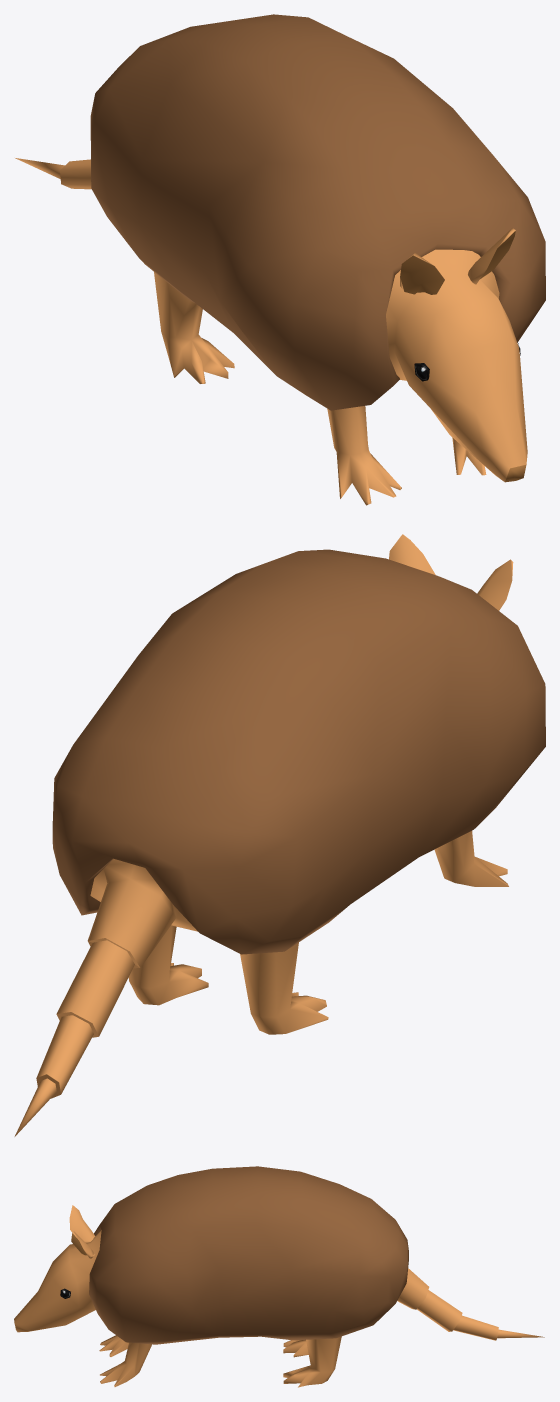
The model's file is 2c082d66-c88d-4b98-a88c-51cec54f2a0f.glb.
3 views of the same model, one above another, from view 1: azimuth 30°, elevation 25°; view 2: azimuth 150°, elevation 25°; view 3: azimuth 270°, elevation 25° (orthographic). The views are drawn at different scales.
Parts seen in each view (by area): view 1: Armadillo; view 2: Armadillo; view 3: Armadillo.
Part boxes in pixels (x1=…): Armadillo: x1=15, y1=14, x2=545, y2=505; Armadillo: x1=14, y1=534, x2=545, y2=1136; Armadillo: x1=14, y1=1166, x2=544, y2=1387.
Size of what is drawn, in the model's own units: 0.3415 by 0.3929 by 1.01.
Materials: 1 (1 with a texture image).
